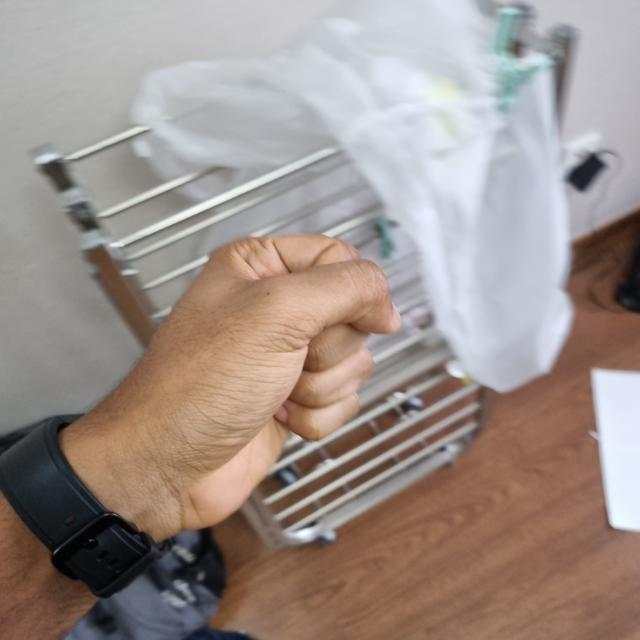Rock: (75, 235, 639, 639)
